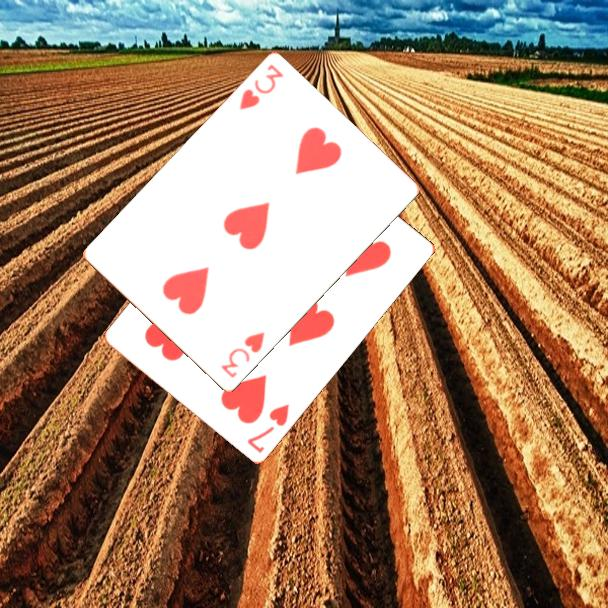h03: (217, 328, 268, 382), (235, 61, 287, 113)
h07: (243, 400, 292, 456)
